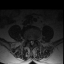CCS_normal: (31, 39, 32, 46)
LFS_severe_stenosis: (34, 38, 35, 42)
LLS_normal: (32, 39, 34, 45)
RFS_severe_stenosis: (28, 37, 29, 42)
RLS_normal: (29, 39, 31, 45)
